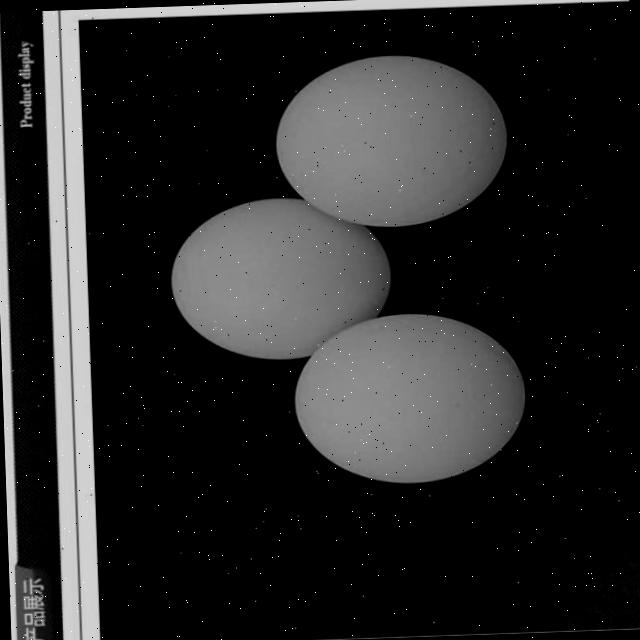ping-pong-ball: (271, 52, 508, 230), (291, 312, 526, 489), (168, 195, 396, 366)
